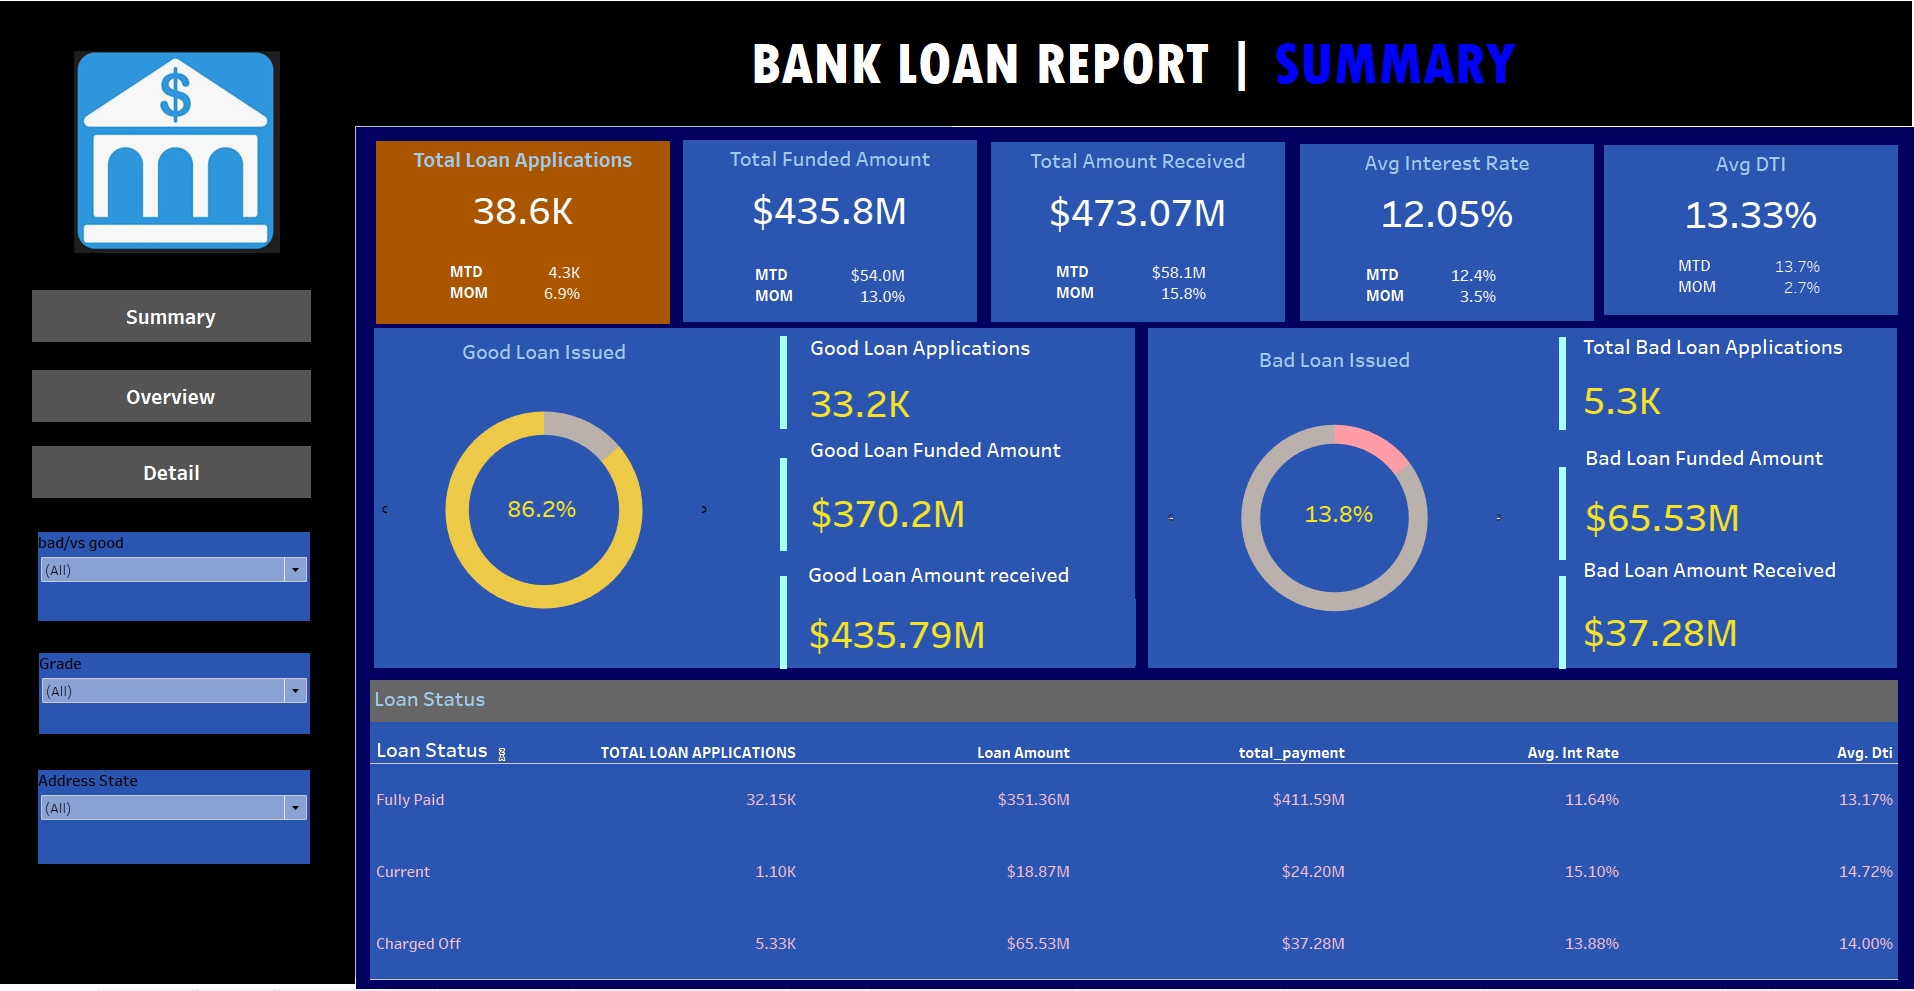

What the dashboard file says about the page in this screenshot:
{"tool":"tableau","page":{"name":"summary","canvas":[1000,1000],"units":"permille","ordinal":2},"visuals":[{"type":"blank","box":[0,5,187.1,990]},{"type":"text","box":[187.1,5,811.1,126.1]},{"type":"dashboard-object","box":[4.8,10,495.2,980]},{"type":"image","box":[500,10,495.2,980]},{"type":"image","param":"Image/WhatsApp Image 2025-11-09 at 4.00.53 PM.jpeg","box":[30.8,54.9,127.3,203.5]},{"type":"worksheet","title":"Total Funded Amount","mark":"Automatic","box":[357.9,144.8,153.3,183.5]},{"type":"worksheet","title":"Total Loan Applications","mark":"Automatic","box":[198,146.1,153.3,184.8]},{"type":"worksheet","title":"Total Amount Received","mark":"Automatic","box":[518.4,147.3,153.3,181]},{"type":"worksheet","title":"average interest rate","mark":"Automatic","box":[678.9,148.6,153.3,178.5]},{"type":"worksheet","title":"average dti","mark":"Automatic","box":[837.7,149.8,153.3,171]},{"type":"worksheet","title":"Sheet 31","mark":"Automatic","box":[872.7,245.9,123.1,108.6]},{"type":"worksheet","title":"CA MTD","mark":"Automatic","box":[233.6,252.2,92.3,88.6]},{"type":"worksheet","title":"RA MTD","mark":"Automatic","box":[549.2,252.2,106.2,82.4]},{"type":"worksheet","title":"FA MTD","mark":"Automatic","box":[392.3,254.7,106.2,89.9]},{"type":"worksheet","title":"IA","mark":"Automatic","box":[710.3,254.7,95.4,101.1]},{"type":"dashboard-object","box":[18.7,295.9,145.4,52.4]},{"type":"blank","box":[196.7,334.6,396.5,342.1]},{"type":"blank","box":[599.9,334.6,390.5,342.1]},{"type":"worksheet","title":"Sheet 11","mark":"Automatic","box":[824.4,334.6,164.8,99.9]},{"type":"worksheet","title":"Good Loan Applications","mark":"Automatic","box":[421.9,335.8,170.8,103.6]},{"type":"worksheet","title":"Sheet 9","mark":"Pie","rows":["Calculation_1467047581618327560","Calculation_1467047581618339850"],"box":[198.6,339.6,173.8,313.4]},{"type":"blank","box":[408.6,342.1,3.6,93.6]},{"type":"blank","box":[814.1,343.3,3.6,93.6]},{"type":"worksheet","title":"Sheet 16","mark":"Pie","rows":["Calculation_1176846881311035394","Calculation_1176846881311051780"],"box":[607.7,347.1,178.6,313.4]},{"type":"dashboard-object","box":[18.7,377,145.4,52.4]},{"type":"worksheet","title":"good loan funded amount","mark":"Automatic","box":[421.9,438.2,170.2,119.9]},{"type":"worksheet","title":"Sheet 12","mark":"Automatic","box":[825.6,445.7,164.8,111.1]},{"type":"dashboard-object","box":[18.7,453.2,145.4,52.4]},{"type":"blank","box":[408.6,465.7,3.6,93.6]},{"type":"blank","box":[814.1,474.4,3.6,93.6]},{"type":"worksheet","title":"Sheet 10","mark":"Automatic","box":[253.5,483.2,61,68.7]},{"type":"worksheet","title":"Sheet 17","mark":"Automatic","box":[671.1,488.1,56.7,72.4]},{"type":"filter","title":"Sheet 9","param":"[federated.1su8ush0cxf9is14s6m4o15ftt9e].[none:Calculation_1176846881310265344:n","box":[21.7,539.3,141.8,89.9]},{"type":"worksheet","title":"Sheet 13","mark":"Automatic","box":[824.4,559.3,164.8,117.4]},{"type":"worksheet","title":"good loan amount received","mark":"Automatic","box":[420.6,564.3,173.2,111.1]},{"type":"blank","box":[408.6,584.3,3.6,93.6]},{"type":"blank","box":[814.1,584.3,3.6,93.6]},{"type":"filter","title":"Sheet 9","param":"[federated.1su8ush0cxf9is14s6m4o15ftt9e].[none:grade:nk]","box":[22.3,661.7,141.2,81.2]},{"type":"worksheet","title":"Sheet 14","mark":"Automatic","rows":["loan_status"],"box":[194.9,689.1,796,302.1]},{"type":"filter","title":"Sheet 9","param":"[federated.1su8ush0cxf9is14s6m4o15ftt9e].[none:address_state:nk]","box":[21.7,779,141.8,94.9]}]}

Visuals, with their boxes on the dashboard's canvas, which has no fixed pixel size, in thousandths of its width and height (x1, y1, x2, y2). These are canvas units, not pixel positions in the 1914x991 screenshot, which may show the page scaled, cropped or inside an application window:
blank: {"x1": 0, "y1": 5, "x2": 187, "y2": 995}
text: {"x1": 187, "y1": 5, "x2": 998, "y2": 131}
dashboard-object: {"x1": 5, "y1": 10, "x2": 500, "y2": 990}
image: {"x1": 500, "y1": 10, "x2": 995, "y2": 990}
image: {"x1": 31, "y1": 55, "x2": 158, "y2": 258}
"Total Funded Amount" worksheet: {"x1": 358, "y1": 145, "x2": 511, "y2": 328}
"Total Loan Applications" worksheet: {"x1": 198, "y1": 146, "x2": 351, "y2": 331}
"Total Amount Received" worksheet: {"x1": 518, "y1": 147, "x2": 672, "y2": 328}
"average interest rate" worksheet: {"x1": 679, "y1": 149, "x2": 832, "y2": 327}
"average dti" worksheet: {"x1": 838, "y1": 150, "x2": 991, "y2": 321}
"Sheet 31" worksheet: {"x1": 873, "y1": 246, "x2": 996, "y2": 354}
"CA MTD" worksheet: {"x1": 234, "y1": 252, "x2": 326, "y2": 341}
"RA MTD" worksheet: {"x1": 549, "y1": 252, "x2": 655, "y2": 335}
"FA MTD" worksheet: {"x1": 392, "y1": 255, "x2": 498, "y2": 345}
"IA" worksheet: {"x1": 710, "y1": 255, "x2": 806, "y2": 356}
dashboard-object: {"x1": 19, "y1": 296, "x2": 164, "y2": 348}
blank: {"x1": 197, "y1": 335, "x2": 593, "y2": 677}
blank: {"x1": 600, "y1": 335, "x2": 990, "y2": 677}
"Sheet 11" worksheet: {"x1": 824, "y1": 335, "x2": 989, "y2": 434}
"Good Loan Applications" worksheet: {"x1": 422, "y1": 336, "x2": 593, "y2": 439}
"Sheet 9" worksheet (Pie marks): {"x1": 199, "y1": 340, "x2": 372, "y2": 653}
blank: {"x1": 409, "y1": 342, "x2": 412, "y2": 436}
blank: {"x1": 814, "y1": 343, "x2": 818, "y2": 437}
"Sheet 16" worksheet (Pie marks): {"x1": 608, "y1": 347, "x2": 786, "y2": 660}
dashboard-object: {"x1": 19, "y1": 377, "x2": 164, "y2": 429}
"good loan funded amount" worksheet: {"x1": 422, "y1": 438, "x2": 592, "y2": 558}
"Sheet 12" worksheet: {"x1": 826, "y1": 446, "x2": 990, "y2": 557}
dashboard-object: {"x1": 19, "y1": 453, "x2": 164, "y2": 506}
blank: {"x1": 409, "y1": 466, "x2": 412, "y2": 559}
blank: {"x1": 814, "y1": 474, "x2": 818, "y2": 568}
"Sheet 10" worksheet: {"x1": 254, "y1": 483, "x2": 314, "y2": 552}
"Sheet 17" worksheet: {"x1": 671, "y1": 488, "x2": 728, "y2": 560}
"Sheet 9" filter: {"x1": 22, "y1": 539, "x2": 164, "y2": 629}
"Sheet 13" worksheet: {"x1": 824, "y1": 559, "x2": 989, "y2": 677}
"good loan amount received" worksheet: {"x1": 421, "y1": 564, "x2": 594, "y2": 675}
blank: {"x1": 409, "y1": 584, "x2": 412, "y2": 678}
blank: {"x1": 814, "y1": 584, "x2": 818, "y2": 678}
"Sheet 9" filter: {"x1": 22, "y1": 662, "x2": 164, "y2": 743}
"Sheet 14" worksheet: {"x1": 195, "y1": 689, "x2": 991, "y2": 991}
"Sheet 9" filter: {"x1": 22, "y1": 779, "x2": 164, "y2": 874}
